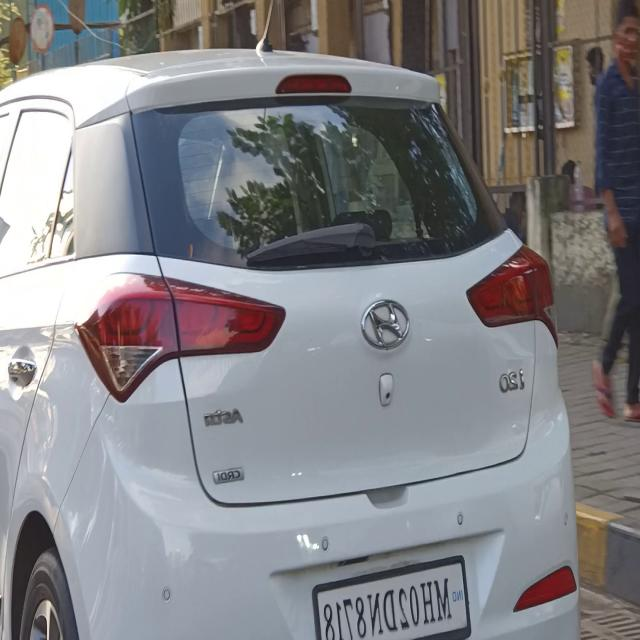license_plate: (312, 548, 473, 640)
